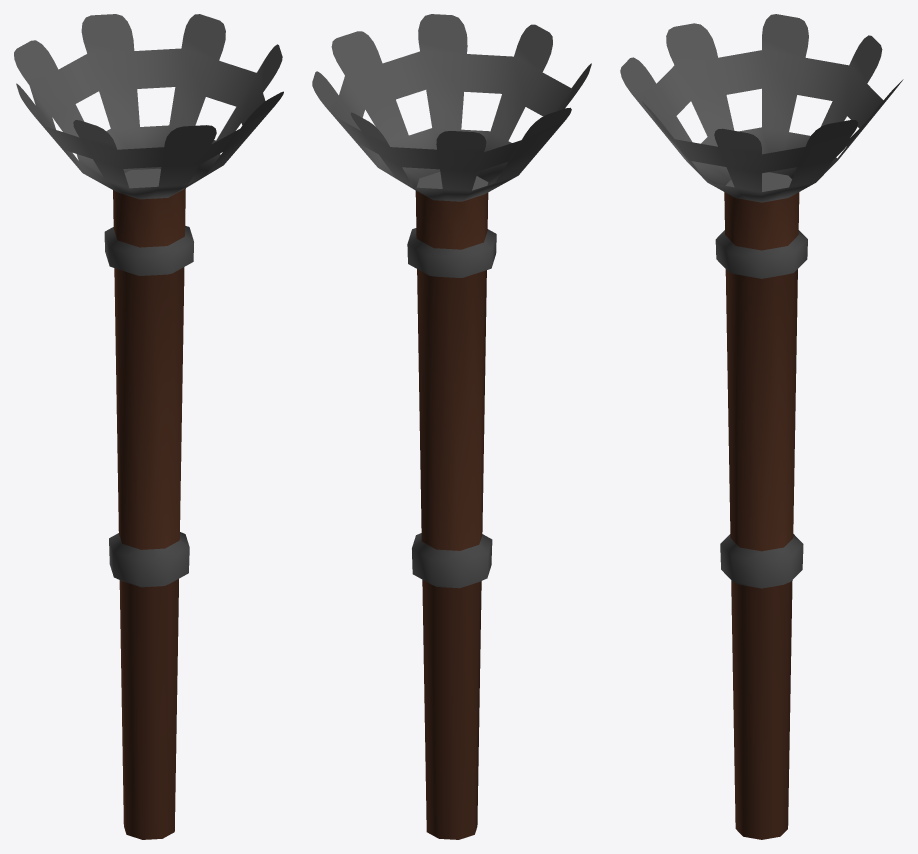
File: Torch.fbx
The picture shows the model from 3 angles, left to right: view 1: azimuth 30°, elevation 25°; view 2: azimuth 150°, elevation 25°; view 3: azimuth 270°, elevation 25°; orthographic projection.
Visible parts, largest first — view 1: Cylinder; view 2: Cylinder; view 3: Cylinder.
Boxes of the visible parts, left/top/right/bottom form: Cylinder: left=14, top=14, right=283, bottom=839; Cylinder: left=312, top=14, right=591, bottom=839; Cylinder: left=620, top=14, right=903, bottom=839.
Bounding box in the file's own units: 78.5 × 230 × 78.31.
